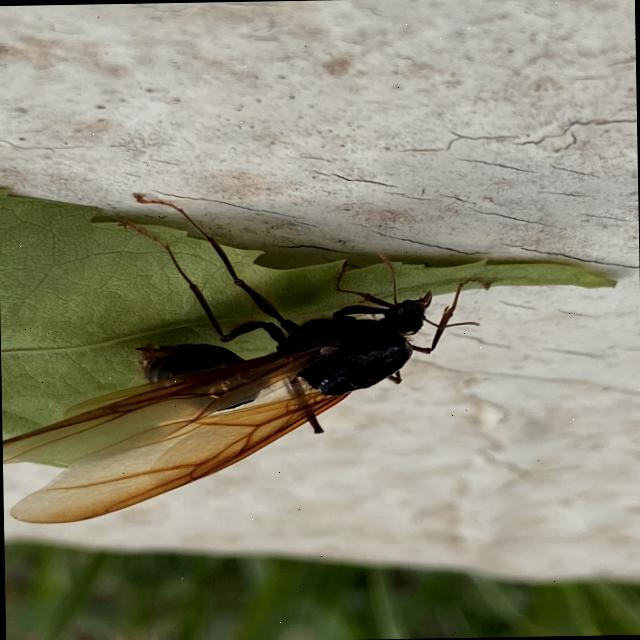Alive-Male-Alate: (0, 186, 498, 527)
